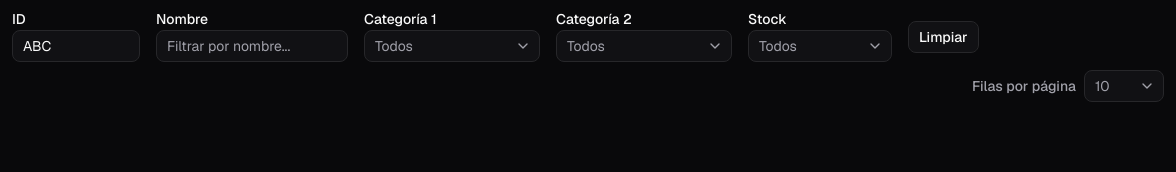
Test case: InventoryFilters — both text inputs are controlled › #filter-id reflects a keystroke from state, before any push lands
Type "X" into the field labelled "ID" at (76, 46), box [12,30,140,62]
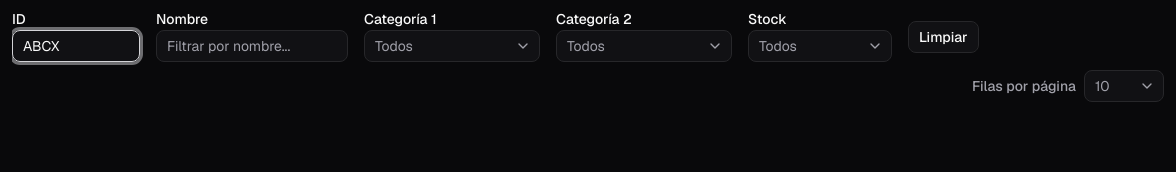
Now the field labelled "ID" holds "ABCX", box [12,30,140,62]
